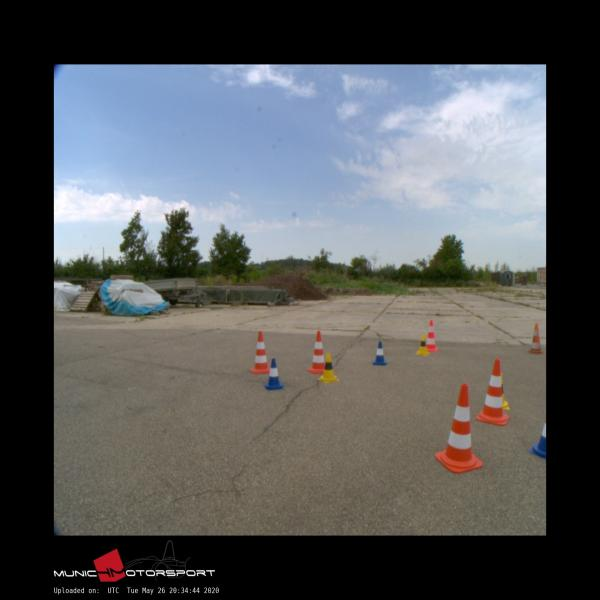blue_cone: (265, 359, 283, 389), (372, 341, 386, 366)
large_orange_cone: (435, 383, 483, 472), (477, 358, 508, 425), (307, 331, 328, 373), (250, 331, 269, 373), (424, 320, 438, 351), (528, 323, 542, 353)
yellow_cone: (318, 353, 337, 381), (416, 335, 429, 354)
